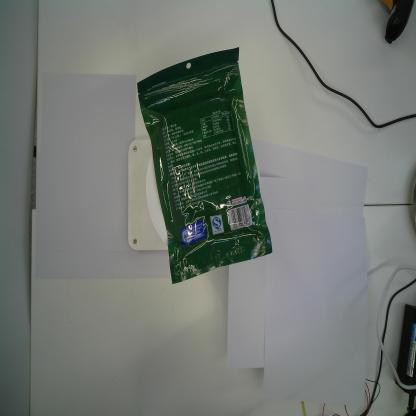Dried Food: (136, 46, 272, 283)
